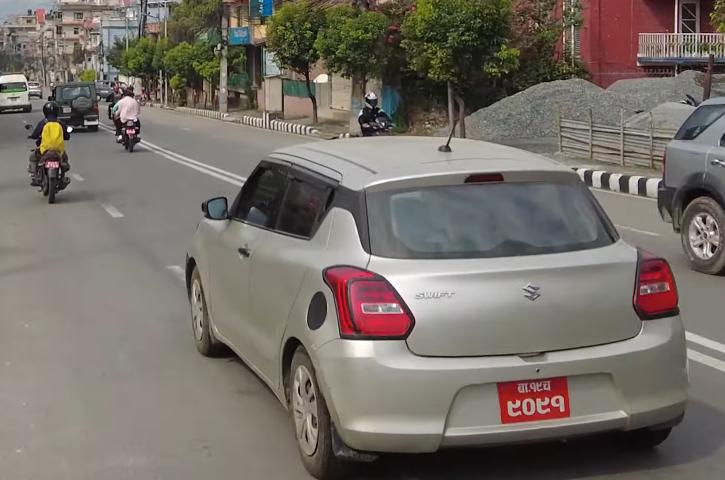SUV: (49, 81, 101, 132)
bike: (26, 129, 74, 208)
car: (187, 136, 688, 460)
micro_bus: (0, 70, 35, 116)
